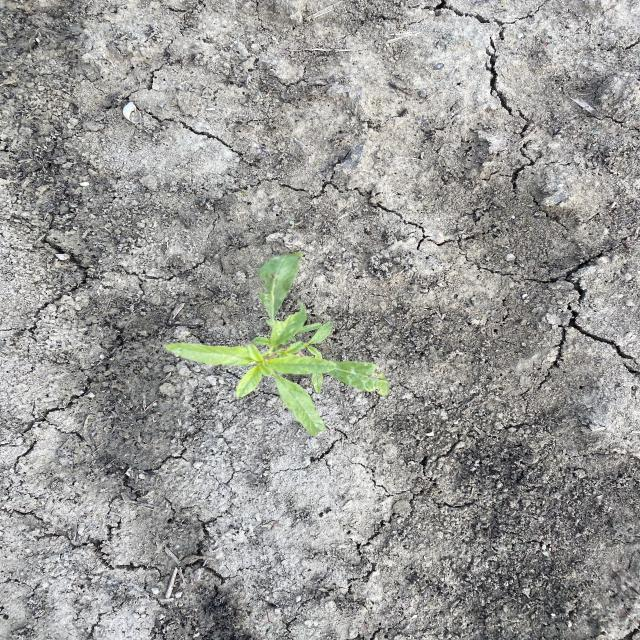Waterhemp: (161, 249, 393, 441)
